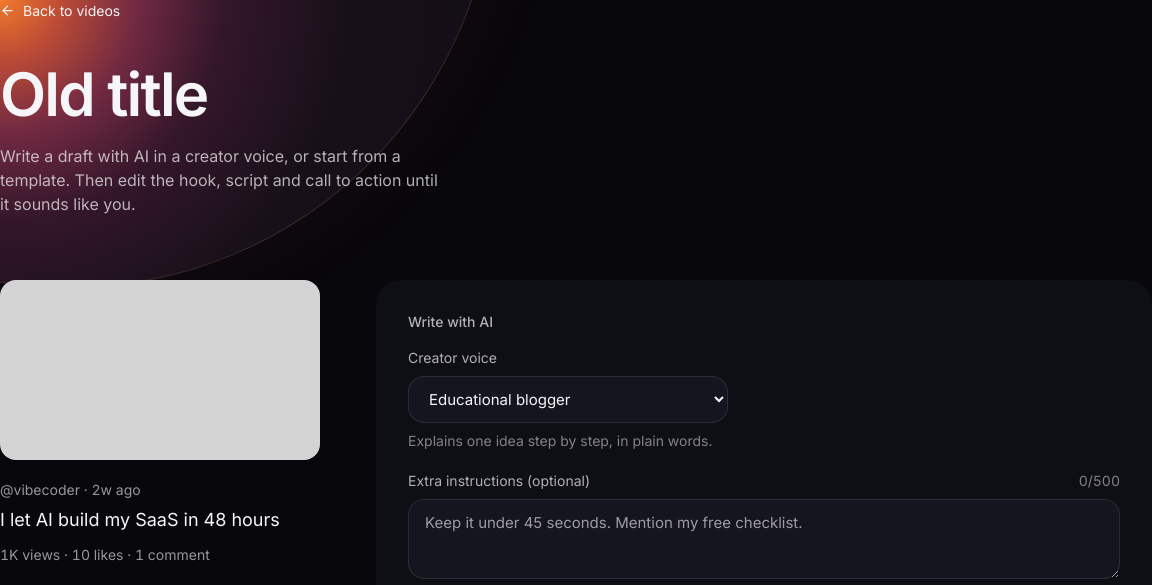
Test: Write with AI: layout and idle state › shows the custom voice box only for Custom voice, and keeps what was typed
Expected: the heading "Write with AI" is shown, [408, 313, 493, 330]
Select "Custom voice…" in the dropdown labelled "Creator voice" at (568, 400), box [408, 376, 728, 423]
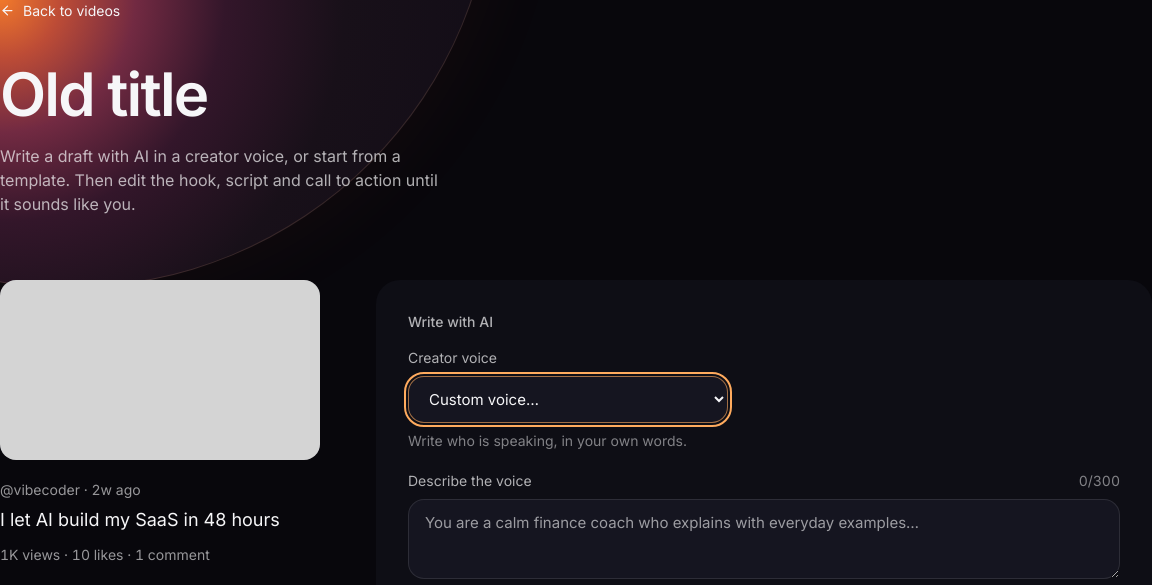
Now the text "Write who is speaking, in your own words." is shown, box [408, 432, 687, 449]
Now the text "0/300" is shown, box [1079, 471, 1120, 491]
Type "You are calm" into the text box labelled "Describe the voice".
click(764, 539); type("You are calm")  # box [408, 499, 1120, 579]
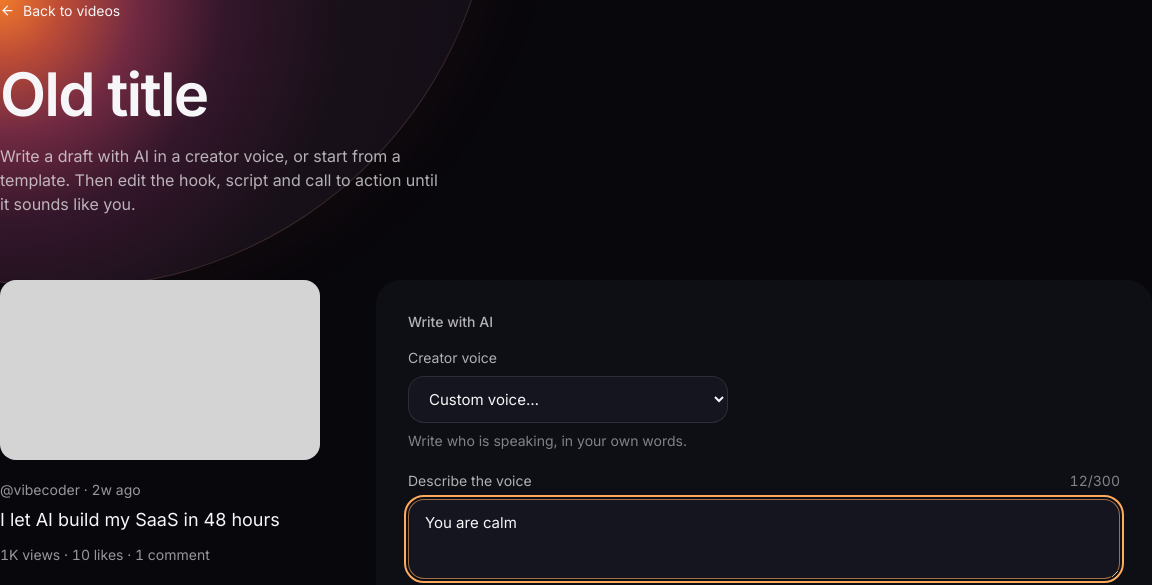
Now the text "12/300" is shown, box [1070, 471, 1120, 491]
Select "Storyteller" in the dropdown labelled "Creator voice" at (568, 400), box [408, 376, 728, 423]
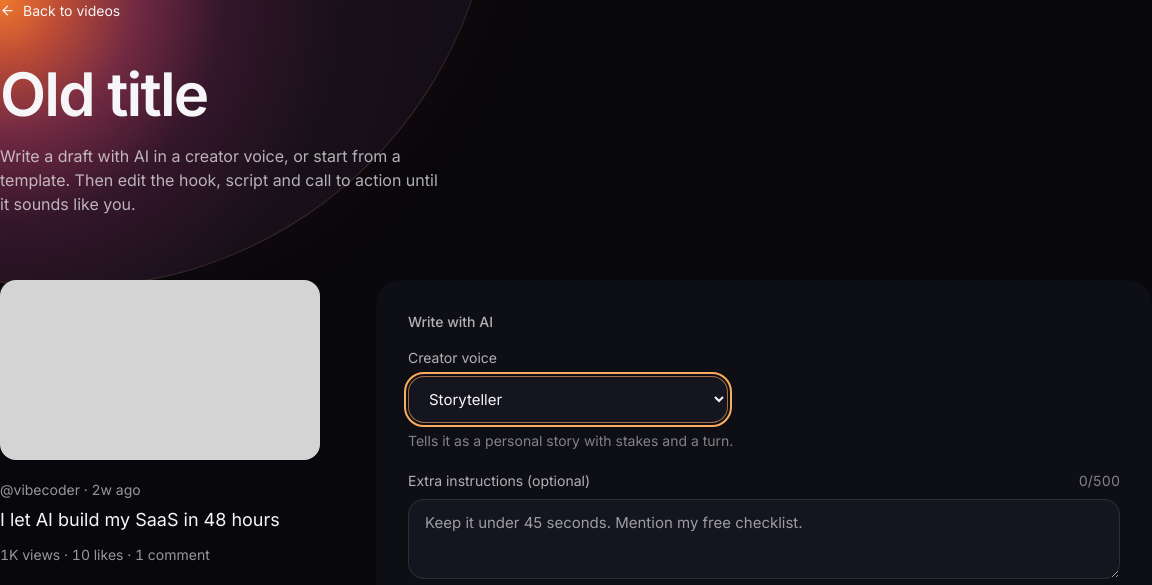
Now the label labelled "Describe the voice" is gone
Now the text "Tells it as a personal story with stakes and a turn." is shown, box [408, 432, 733, 449]
Select "Custom voice…" in the dropdown labelled "Creator voice" at (568, 400), box [408, 376, 728, 423]
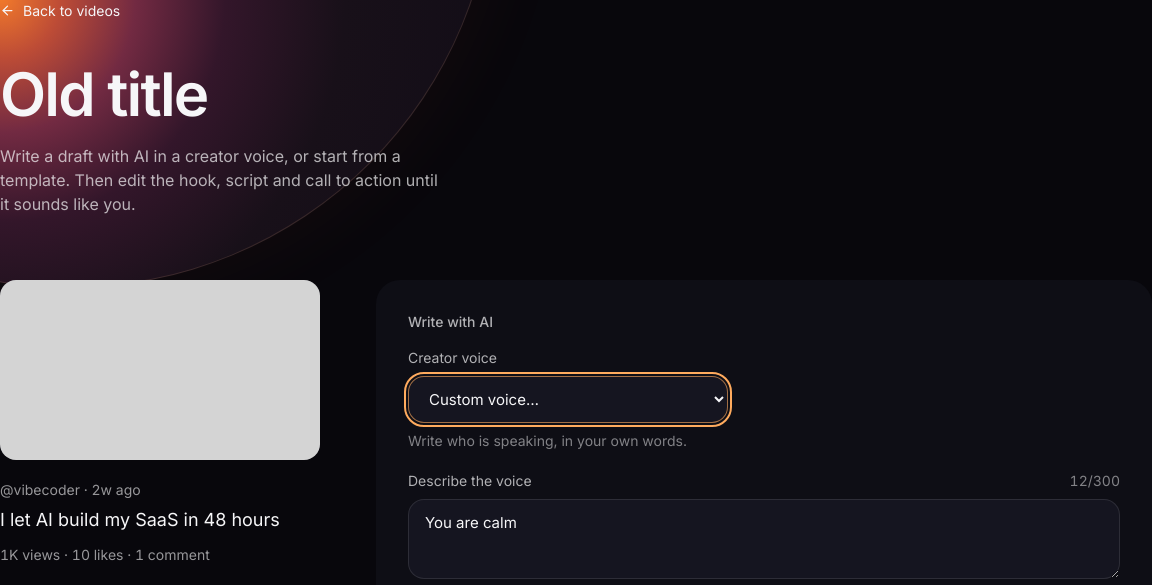
Now the text box labelled "Describe the voice" holds "You are calm", box [408, 499, 1120, 579]
